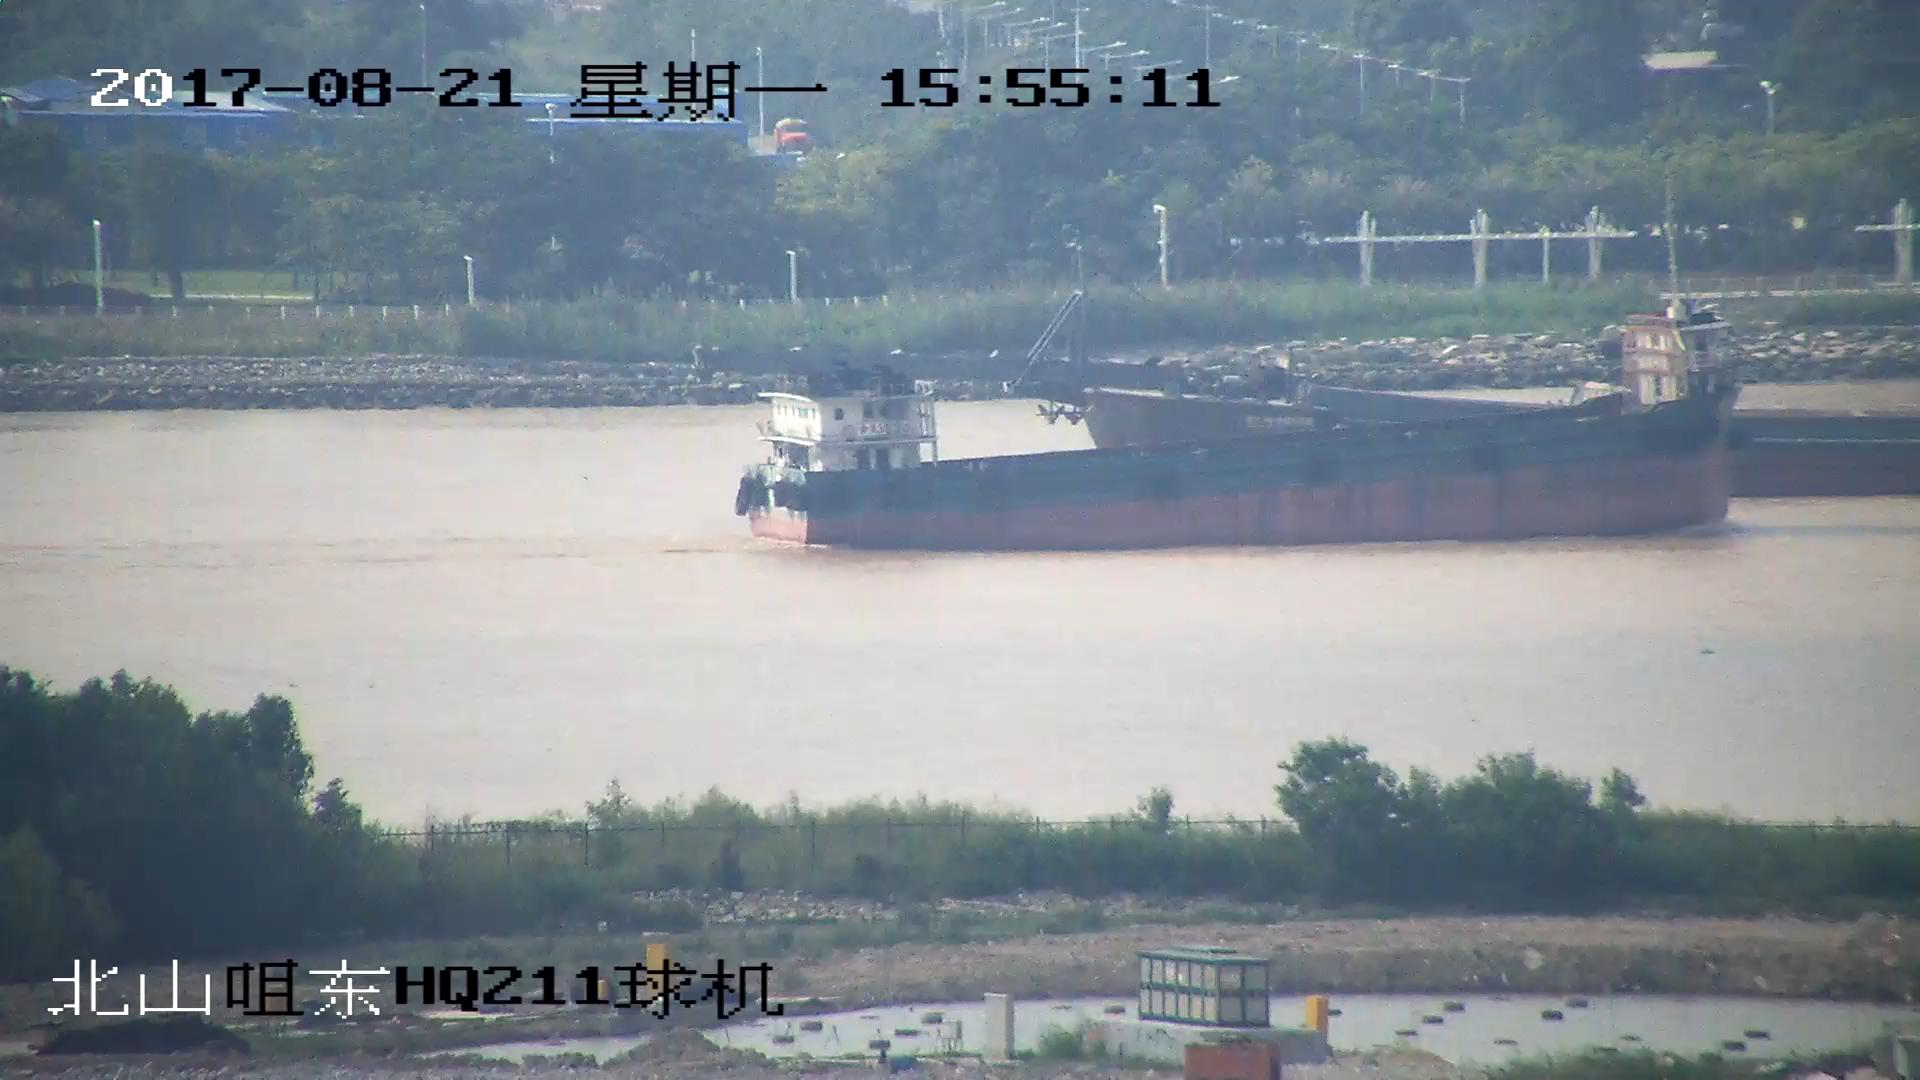bulk cargo carrier: (701, 252, 1920, 495)
general cargo ship: (736, 295, 1761, 550)
